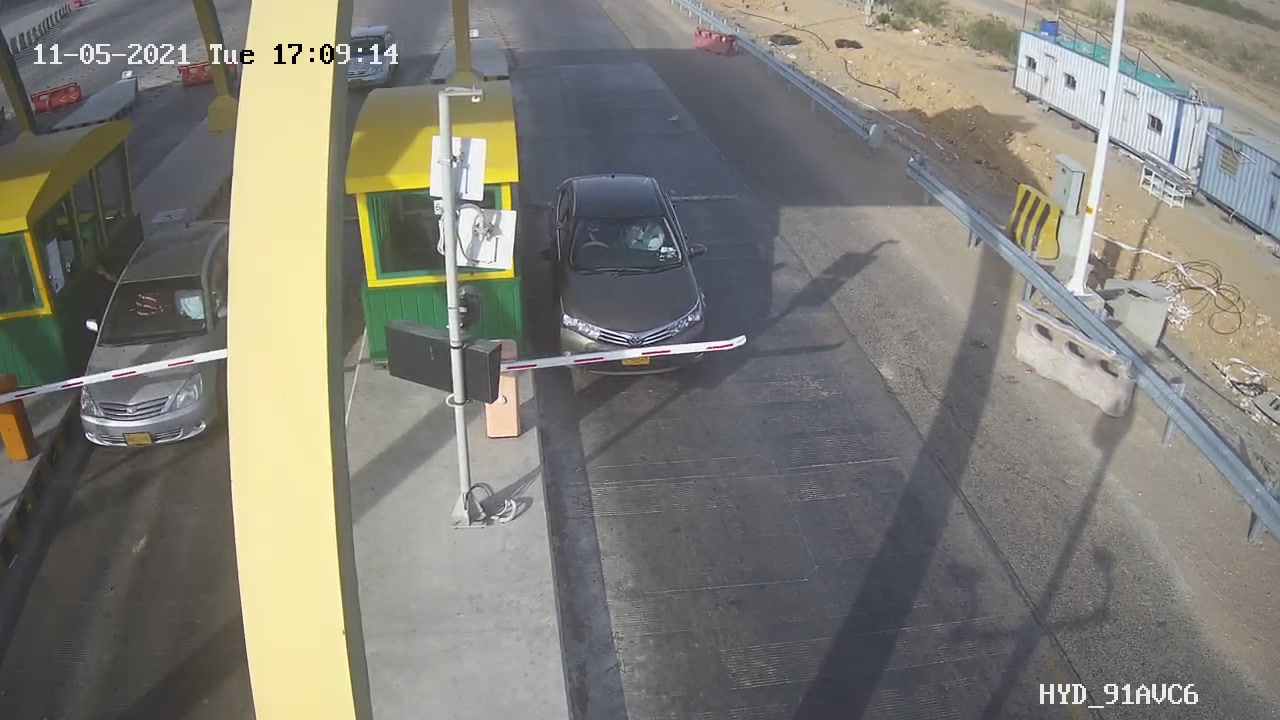F1: (525, 147, 735, 405)
